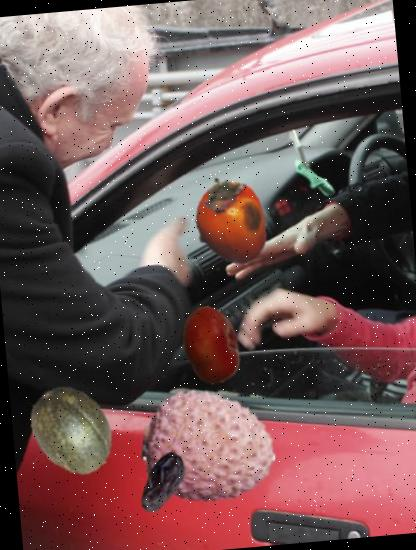Dates: (128, 449, 198, 518)
Kaki: (180, 172, 280, 272)
Lychee: (138, 375, 282, 519)
Melon: (23, 378, 125, 480)
Nectarine: (169, 302, 254, 388)
